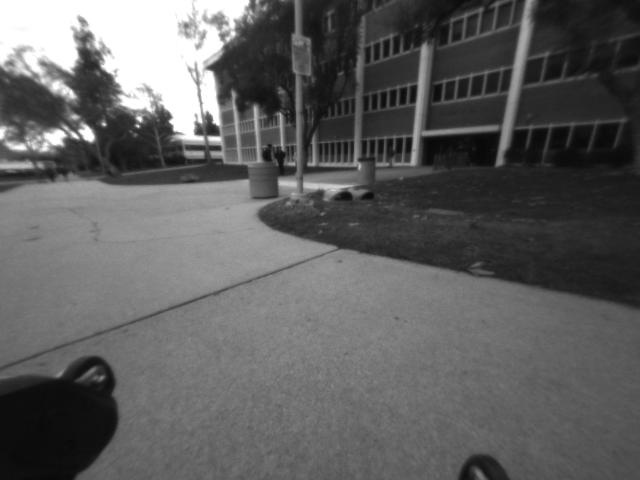trashcan: (248, 160, 282, 204), (351, 154, 381, 191)
